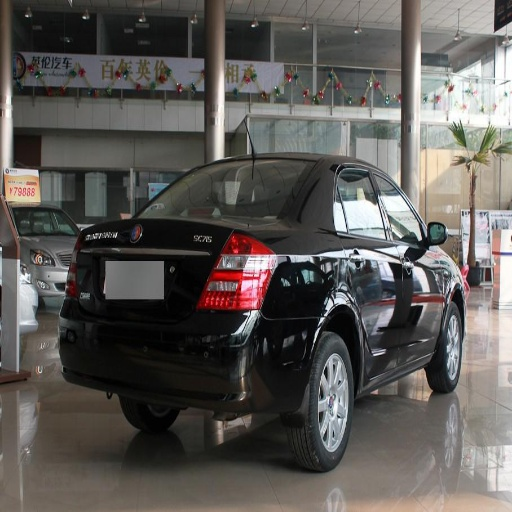back_bumper: (59, 301, 308, 419)
back_right_door: (334, 163, 403, 368)
tailgate: (78, 218, 229, 325)
trunk: (79, 264, 181, 340), (275, 252, 337, 306)
